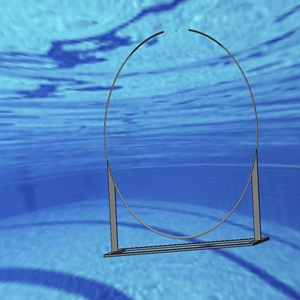circle: (102, 28, 268, 258)
